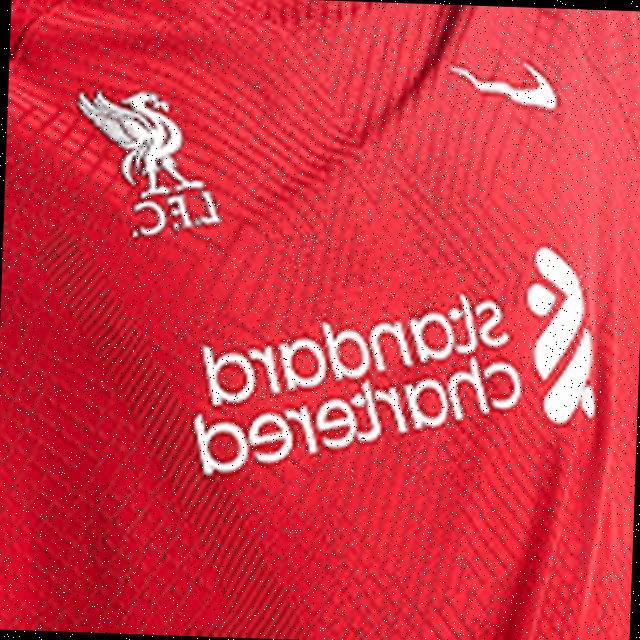Nike: (446, 53, 562, 116)
Standard Chartered: (192, 229, 601, 490)
